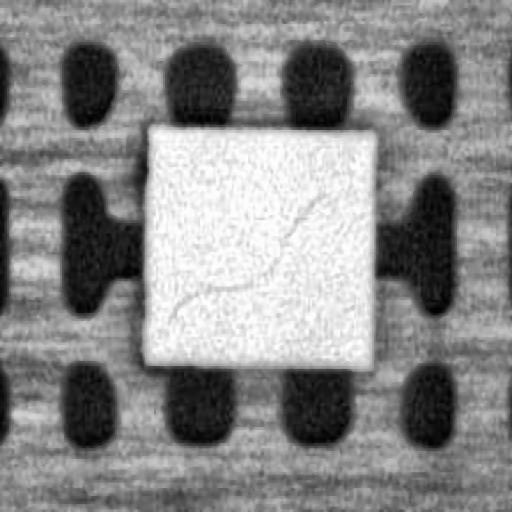DIE_CRACK: (165, 194, 315, 316)
